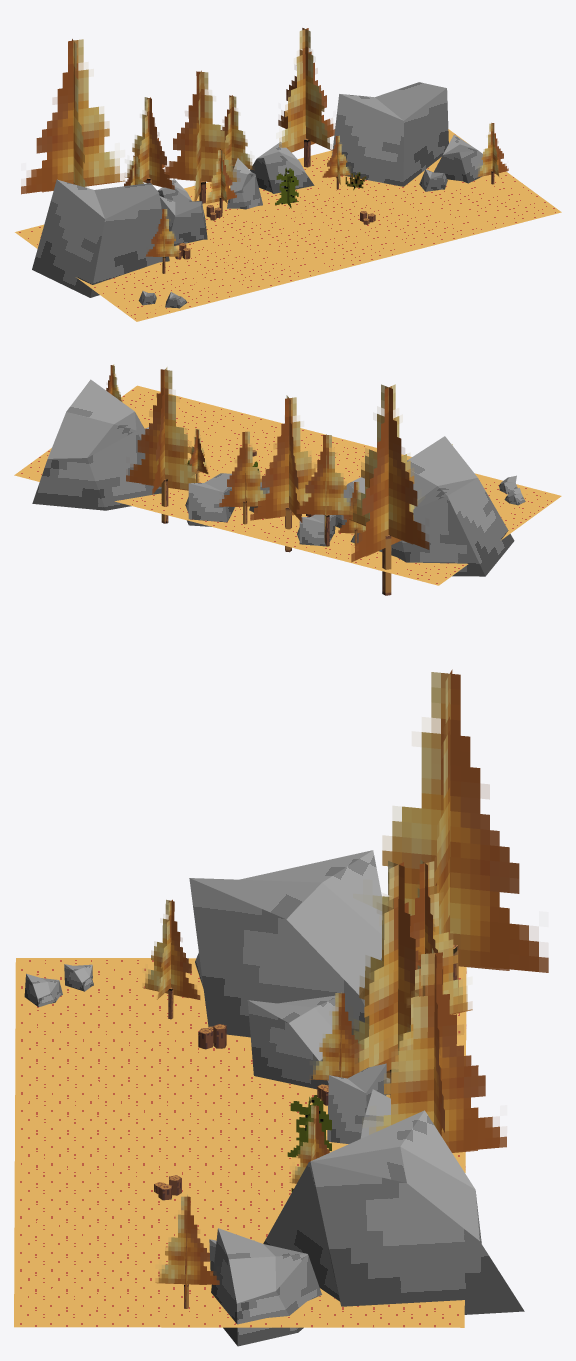
File: Map_2.glb
3 renders of one model, top to bottom at view 1: azimuth 30°, elevation 25°; view 2: azimuth 150°, elevation 25°; view 3: azimuth 270°, elevation 25°, orthographic. The views are drawn at different scales.
Visible parts, largest first — view 1: Ground_yellow (1), Stone_Stone_0 (10), Stone_Stone_0 (6), Wood_yellow (37), Wood_yellow (40), Wood_yellow (42), Wood_yellow (30), Stone_Stone_0 (11), Stone_Stone_0 (9), Stone.004_Stone_0 (3), Wood_yellow (43), Stone.004_Stone_0 (4) (+7 smaller); view 2: Ground_yellow (1), Stone_Stone_0 (6), Stone_Stone_0 (10), Wood_yellow (37), Wood_yellow (42), Wood_yellow (40), Wood_yellow (30), Wood_yellow (43), Stone_Stone_0 (11), Stone_Stone_0 (12), Wood_yellow (38), Wood_yellow (31) (+1 smaller); view 3: Ground_yellow (1), Stone_Stone_0 (6), Stone_Stone_0 (10), Wood_yellow (37), Wood_yellow (42), Stone.004_Stone_0 (3), Wood_yellow (40), Stone_Stone_0 (9), Wood_yellow (30), Stone.004_Stone_0 (4), Wood_yellow (39), Wood_yellow (41) (+5 smaller).
Boxes of the visible parts, x1,y1,x2,y2 form: Ground_yellow (1): (15, 129, 561, 321); Stone_Stone_0 (10): (32, 179, 169, 297); Stone_Stone_0 (6): (332, 82, 448, 186); Wood_yellow (37): (21, 39, 124, 194); Wood_yellow (40): (164, 70, 239, 203); Wood_yellow (42): (278, 28, 334, 167); Wood_yellow (30): (125, 97, 174, 189); Stone_Stone_0 (11): (250, 141, 314, 193); Stone_Stone_0 (9): (159, 196, 207, 245); Stone.004_Stone_0 (3): (433, 134, 482, 183); Wood_yellow (43): (220, 95, 254, 171); Stone.004_Stone_0 (4): (227, 158, 262, 209); Ground_yellow (1): (14, 385, 561, 585); Stone_Stone_0 (6): (32, 379, 161, 510); Stone_Stone_0 (10): (350, 436, 514, 576); Wood_yellow (37): (349, 384, 429, 595); Wood_yellow (42): (126, 367, 199, 523); Wood_yellow (40): (250, 395, 315, 552); Wood_yellow (30): (296, 434, 352, 546); Wood_yellow (43): (219, 431, 265, 524); Stone_Stone_0 (11): (185, 473, 234, 526); Stone_Stone_0 (12): (297, 514, 335, 546); Wood_yellow (38): (338, 482, 365, 545); Wood_yellow (31): (188, 429, 208, 482); Ground_yellow (1): (14, 958, 466, 1327); Stone_Stone_0 (6): (263, 1110, 524, 1314); Stone_Stone_0 (10): (189, 850, 382, 1042); Wood_yellow (37): (372, 669, 548, 987); Wood_yellow (42): (369, 948, 506, 1152); Stone.004_Stone_0 (3): (211, 1228, 321, 1346); Wood_yellow (40): (352, 861, 427, 1096); Stone_Stone_0 (9): (247, 995, 338, 1089); Wood_yellow (30): (410, 859, 472, 1014); Stone.004_Stone_0 (4): (327, 1063, 386, 1143); Wood_yellow (39): (155, 1194, 219, 1308); Wood_yellow (41): (142, 899, 200, 1019).
Bounding box in the file's own units: 20.77 × 9.34 × 12.16.
7 materials, 7 textured.
